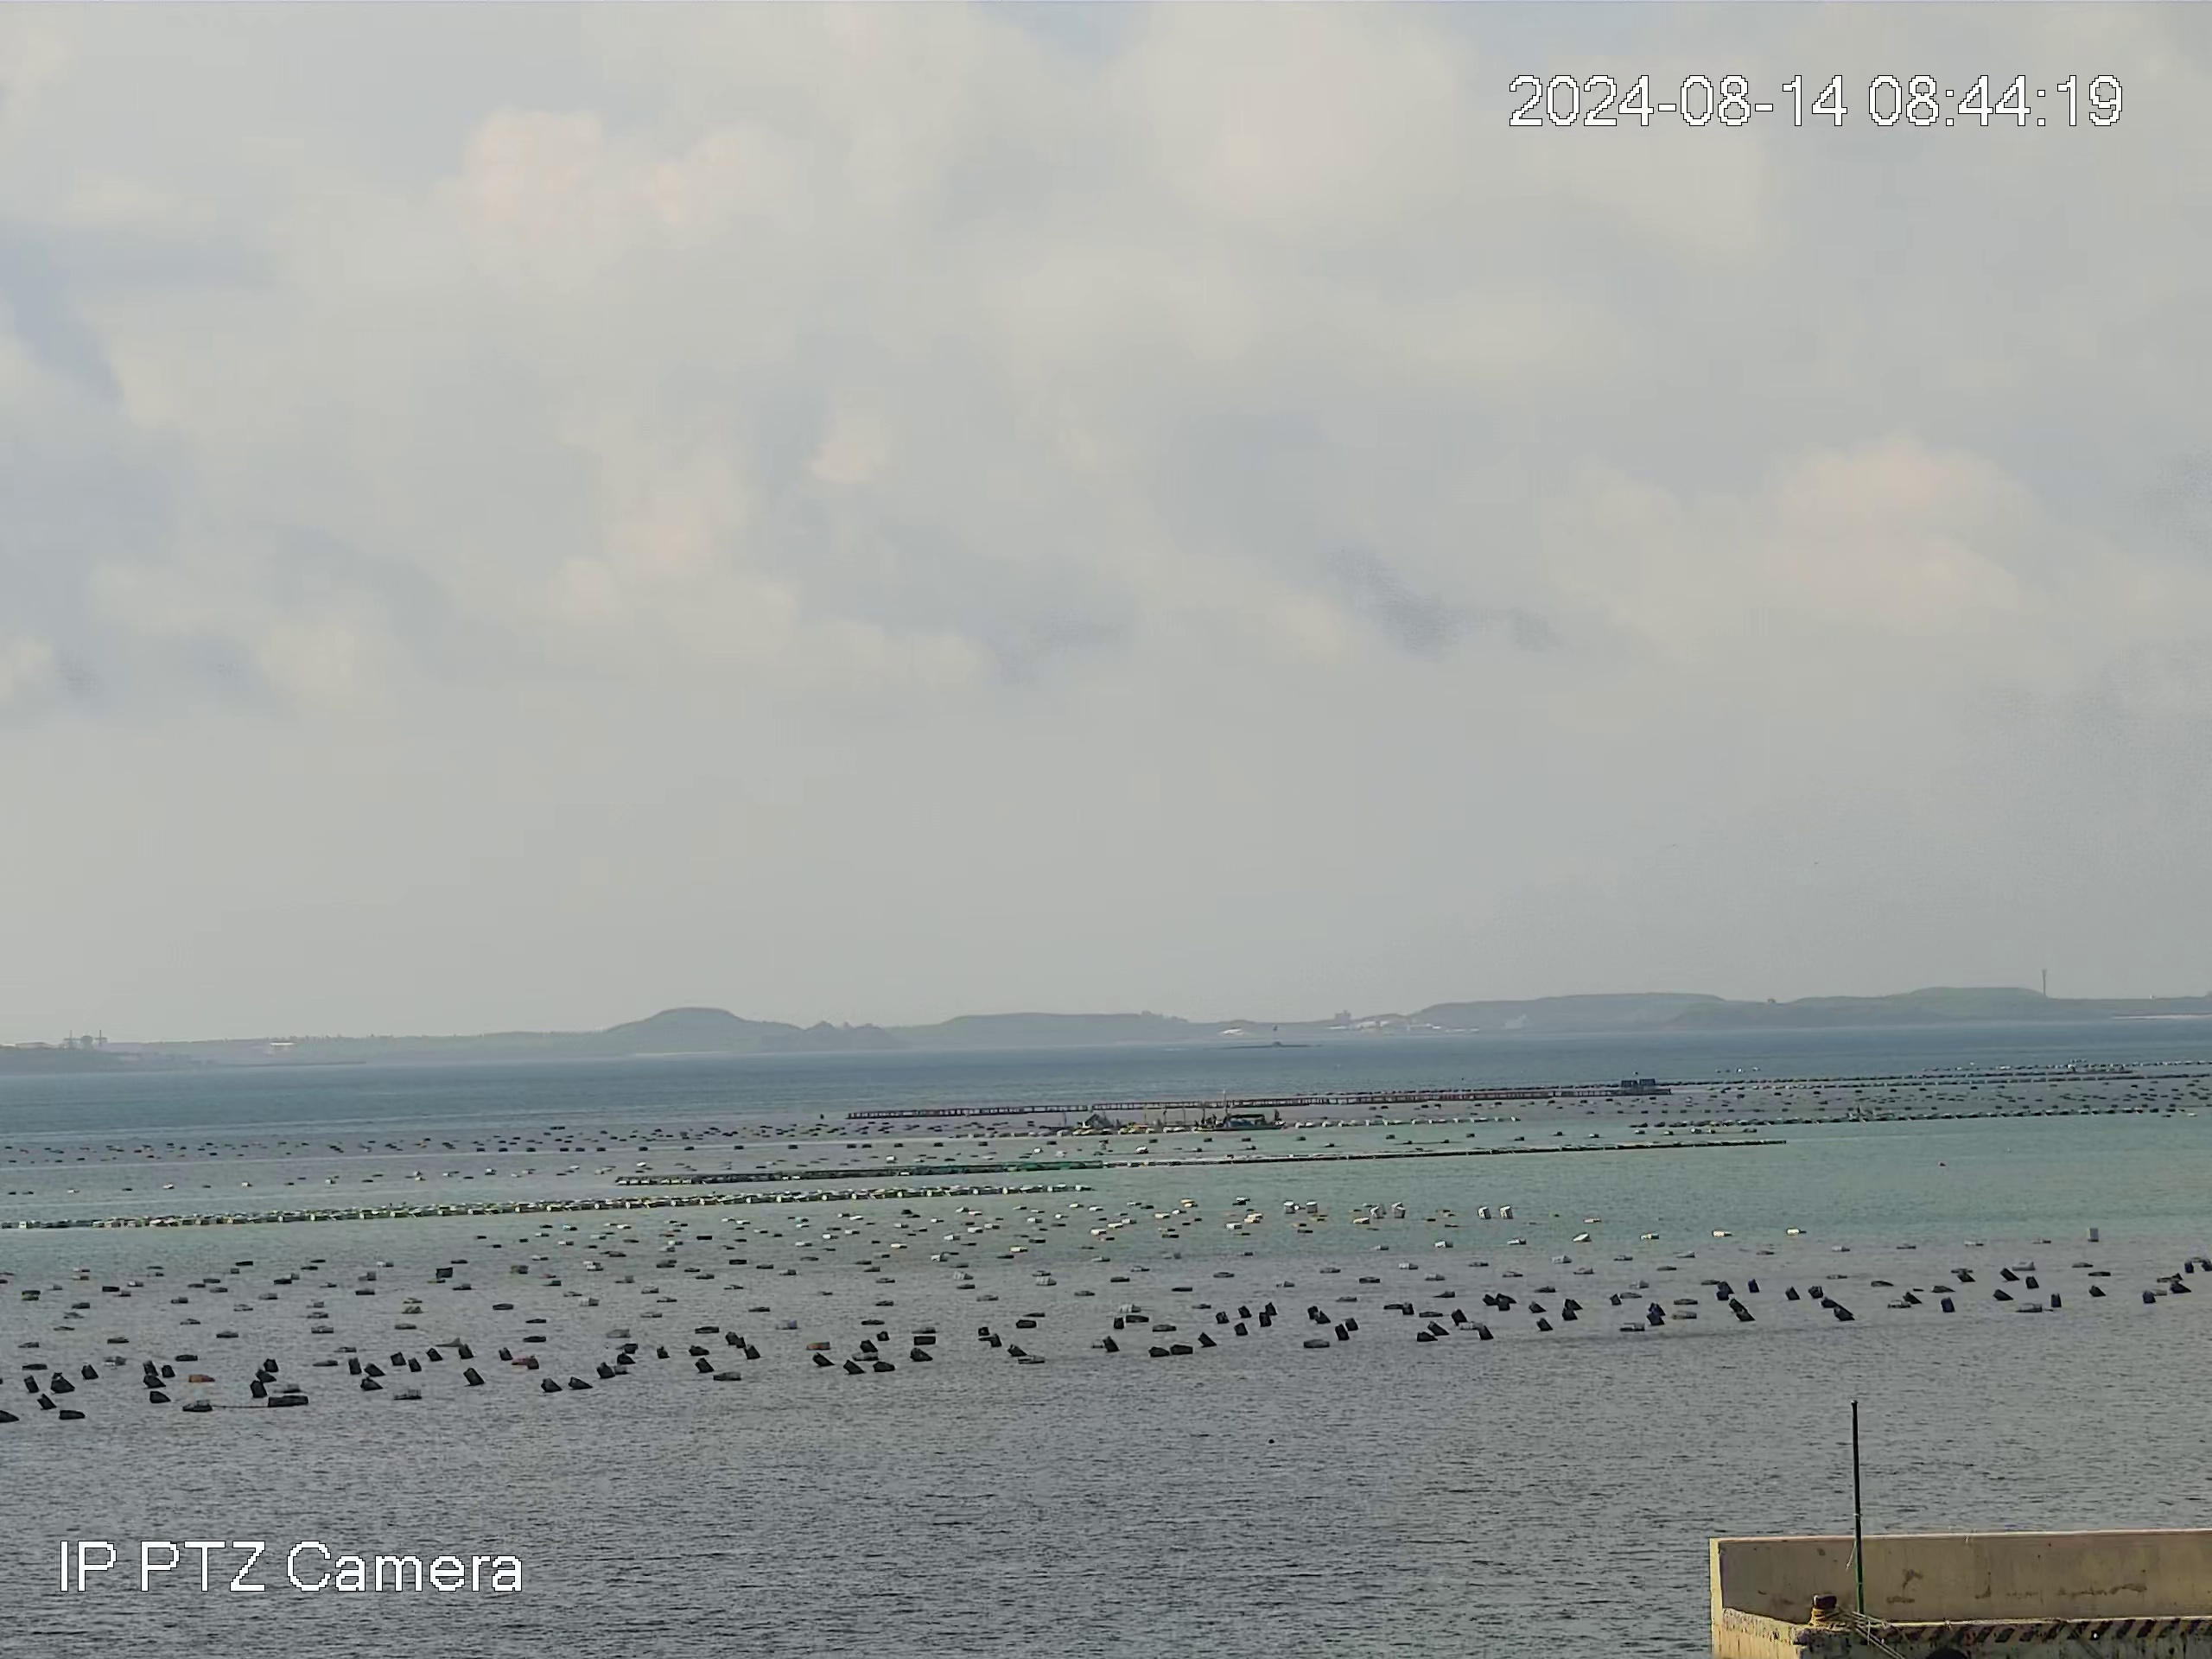boat: (1216, 1108, 1285, 1131)
